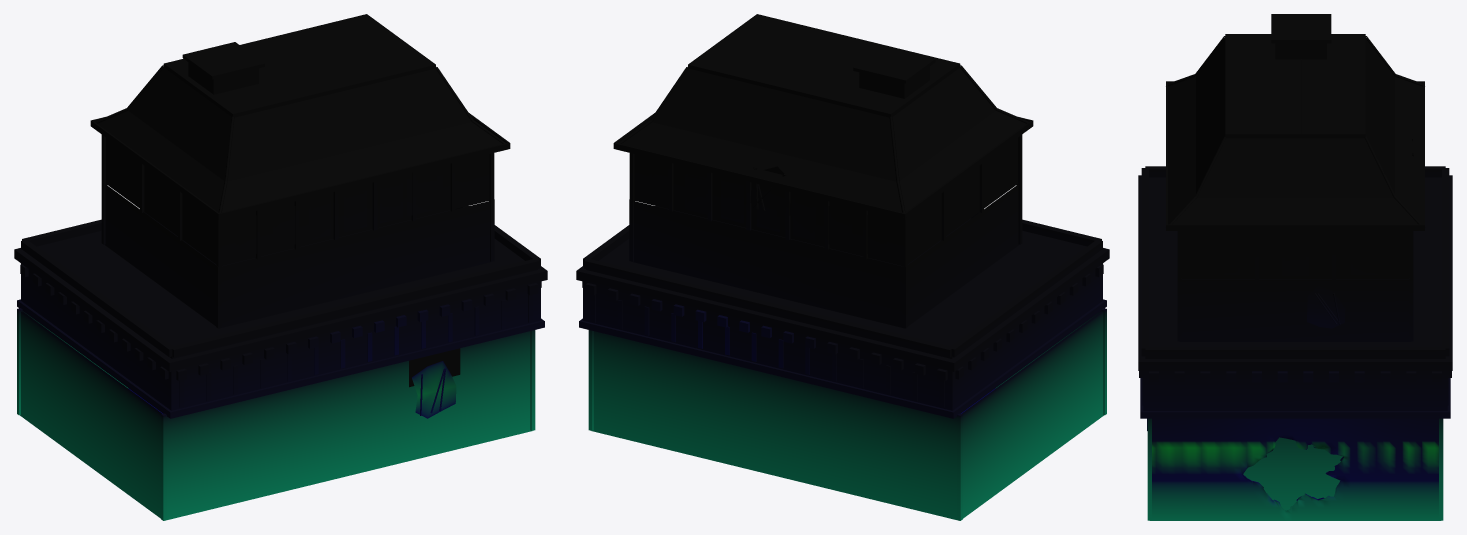
File: l_palacewing_damaged.glb
The picture shows the model from 3 angles, left to right: view 1: azimuth 30°, elevation 25°; view 2: azimuth 150°, elevation 25°; view 3: azimuth 270°, elevation 25°; orthographic projection.
Visible parts, largest first — view 1: lod0; view 2: lod0; view 3: lod0.
Boxes of the visible parts, box(x1,y1,x2,y2) form: lod0: box(14, 14, 547, 520); lod0: box(576, 14, 1109, 520); lod0: box(1138, 14, 1452, 520).
Size of what is drawn, in the model's own units: 31.05 by 29.23 by 22.
